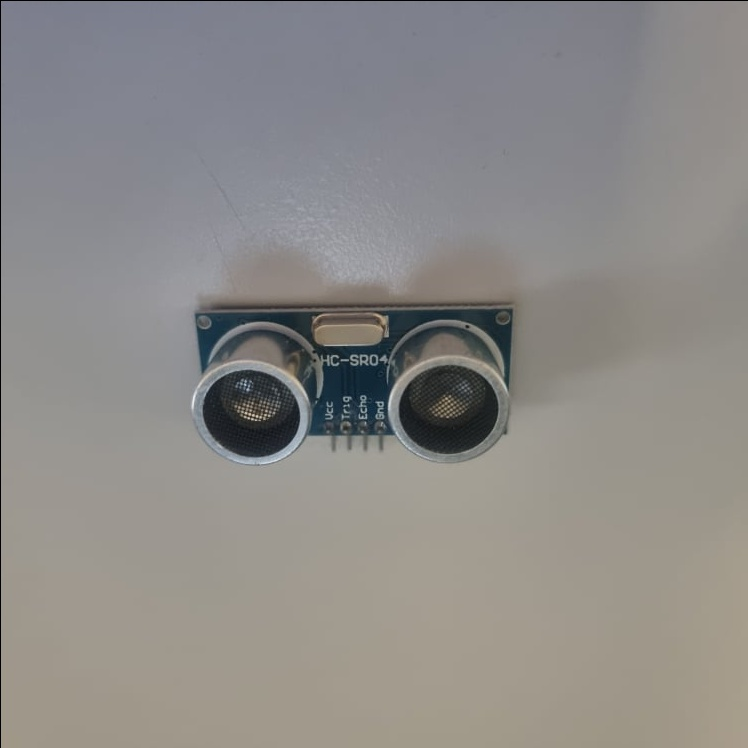SENSOR: (190, 303, 514, 467)
